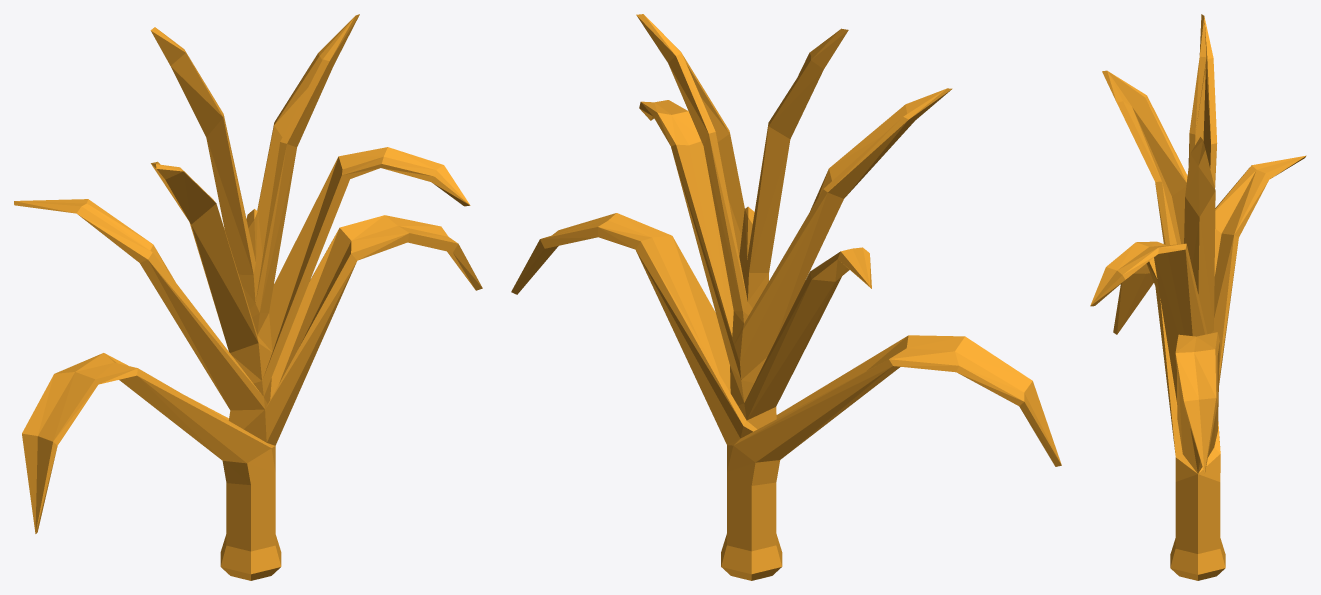
The model's file is SM_Leek_Mature_A.fbx.
The picture shows the model from 3 angles, left to right: view 1: azimuth 30°, elevation 25°; view 2: azimuth 150°, elevation 25°; view 3: azimuth 270°, elevation 25°; orthographic projection. The views are drawn at different scales.
Visible parts, largest first — view 1: leek-mature-a; view 2: leek-mature-a; view 3: leek-mature-a.
Boxes of the visible parts, x1=… form: leek-mature-a: x1=14, y1=14, x2=482, y2=580; leek-mature-a: x1=511, y1=14, x2=1061, y2=580; leek-mature-a: x1=1090, y1=14, x2=1306, y2=580.
Bounding box in the file's own units: 0.7423 × 0.8075 × 0.3068.
